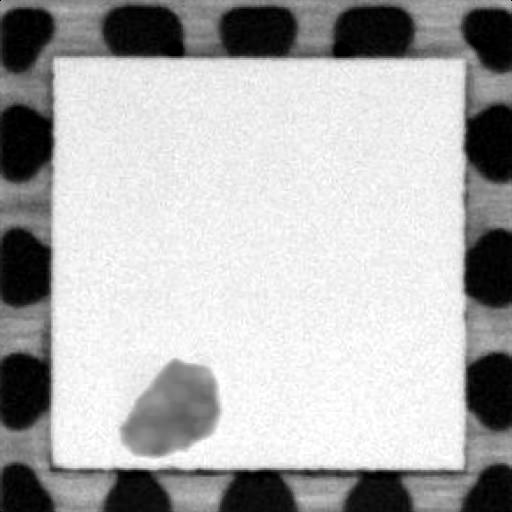DIE_INK: (100, 342, 237, 472)
